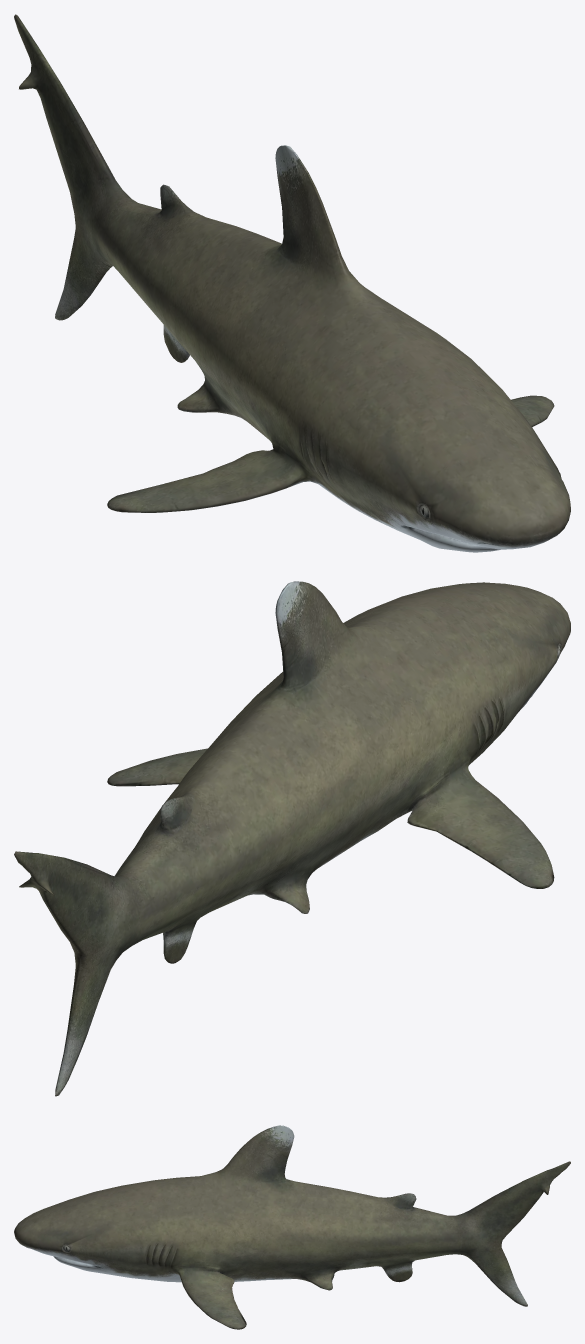
Rendered from whitetip-shark.glb.
3 views of the same model, one above another, from view 1: azimuth 30°, elevation 25°; view 2: azimuth 150°, elevation 25°; view 3: azimuth 270°, elevation 25° (orthographic). The views are drawn at different scales.
Visible parts, largest first — view 1: node_id396; view 2: node_id396; view 3: node_id396.
Boxes of the visible parts, x1=… form: node_id396: x1=14, y1=14, x2=570, y2=552; node_id396: x1=14, y1=581, x2=570, y2=1096; node_id396: x1=14, y1=1125, x2=570, y2=1329.
Bounding box in the file's own units: 0.512 × 0.3804 × 1.06.
1 material, 1 textured.
